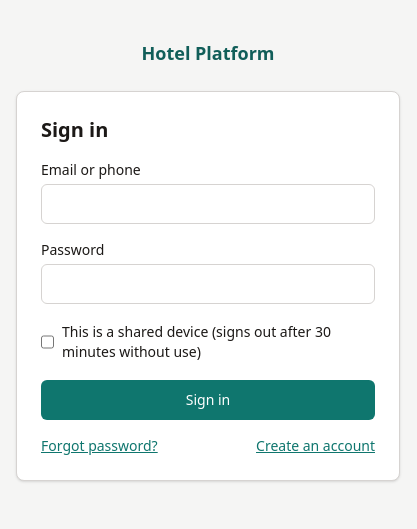
Scenario: sign in (S01) › shows the server’s message for a wrong password
In the field labelled "Email or phone": (208, 204) left=41, top=184, right=375, bottom=224, type "ada@example.test"
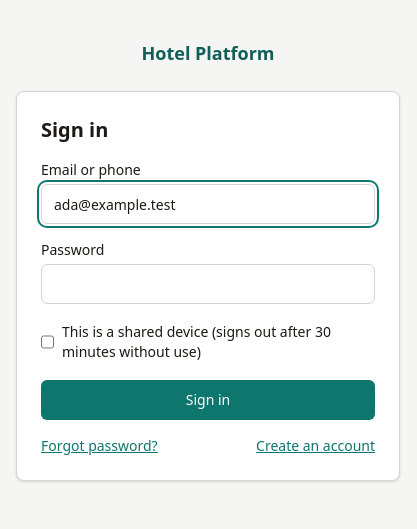
In the password field labelled "Password": (208, 284) left=41, top=264, right=375, bottom=304, type "wrong password"
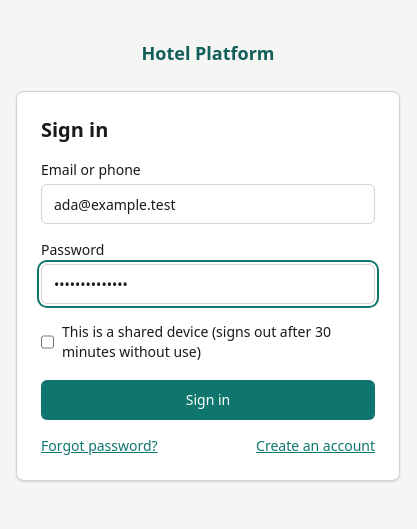
Click the button "Sign in": (208, 400) left=41, top=380, right=375, bottom=420
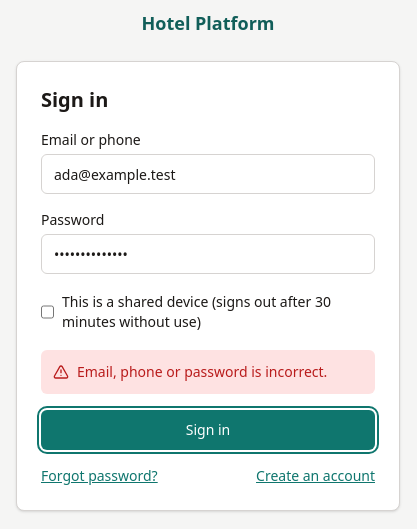
Check: the message reads "Email, phone or password is incorrect.", box left=77, top=362, right=327, bottom=381
